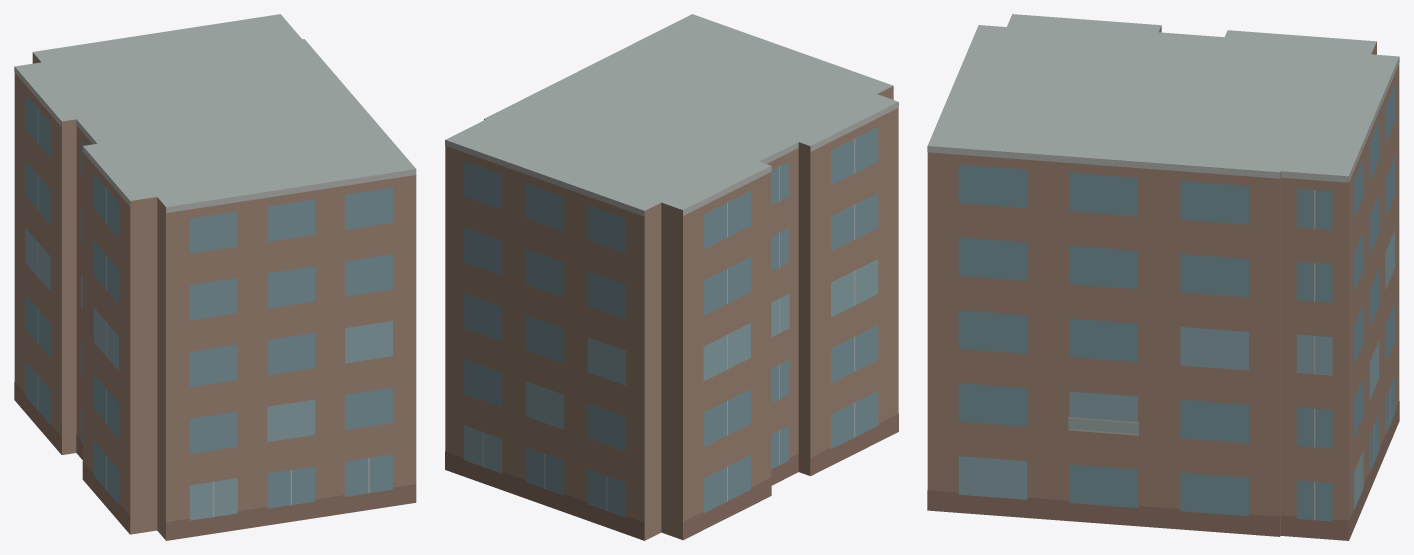
The model's file is survey-upis-33032907.glb.
3 views of the same model, side by side, from view 1: azimuth 30°, elevation 25°; view 2: azimuth 150°, elevation 25°; view 3: azimuth 270°, elevation 25° (orthographic). The views are drawn at different scales.
Parts seen in each view (by area): view 1: survey-upis-33032907.tmp; view 2: survey-upis-33032907.tmp; view 3: survey-upis-33032907.tmp.
Boxes of the visible parts, left/top/right/bottom form: survey-upis-33032907.tmp: left=14, top=14, right=416, bottom=540; survey-upis-33032907.tmp: left=445, top=14, right=898, bottom=540; survey-upis-33032907.tmp: left=927, top=14, right=1399, bottom=540.
Bounding box in the file's own units: 13.29 × 13.9 × 16.32.
